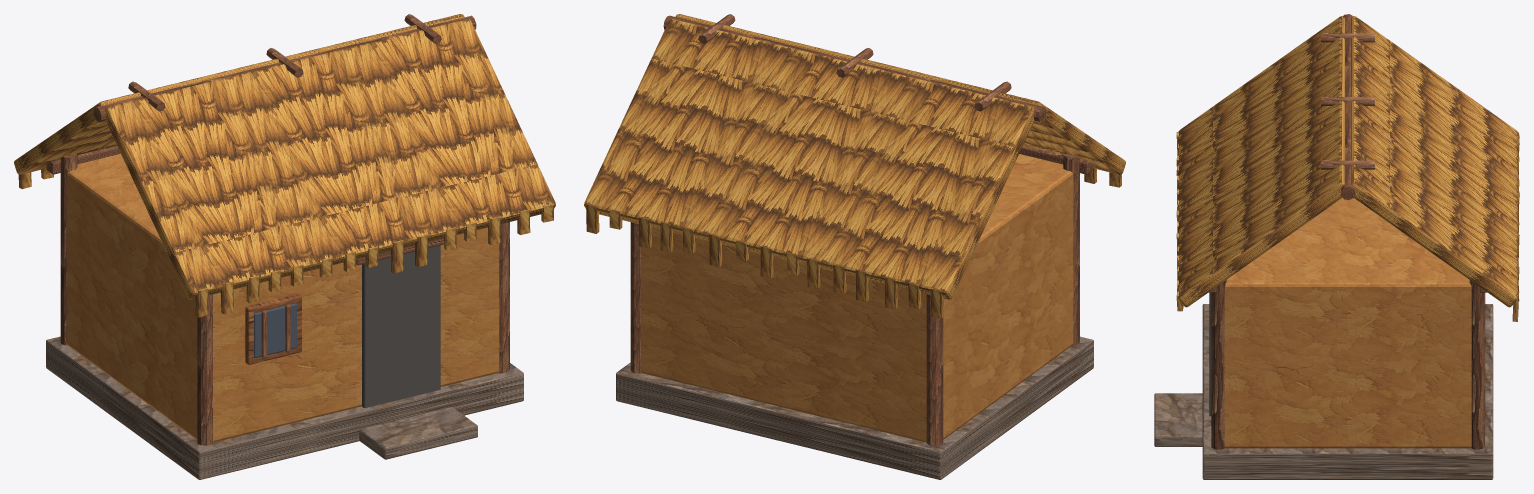
File: hut-staged.glb
3 renders of one model, left to right at view 1: azimuth 30°, elevation 25°; view 2: azimuth 150°, elevation 25°; view 3: azimuth 270°, elevation 25°, orthographic. The views are drawn at different scales.
Visible parts, largest first — view 1: roof, walls, footing, door, roof.001, step, post, post.002, winDark, post.001, winFrame, ridge (+1 smaller); view 2: roof.001, walls, footing, roof, post.001, post.003, post, ridge, beamF; view 3: walls, roof, roof.001, footing, step, post.003, post.002, ridge, ridgeTie.002, ridgeTie, ridgeTie.001.
Part boxes in pixels (<box>): roof: <box>105,19,555,299</box>; walls: <box>66,154,499,442</box>; footing: <box>46,336,523,479</box>; door: <box>361,245,440,407</box>; roof.001: <box>14,14,464,174</box>; step: <box>359,407,477,459</box>; post: <box>197,294,213,445</box>; post.002: <box>498,222,509,373</box>; winDark: <box>254,303,296,358</box>; post.001: <box>60,153,77,345</box>; winFrame: <box>245,294,301,364</box>; ridge: <box>93,15,476,122</box>; roof.001: <box>584,19,1034,299</box>; walls: <box>641,154,1073,442</box>; footing: <box>616,336,1093,479</box>; roof: <box>675,14,1125,174</box>; post.001: <box>926,294,943,445</box>; post.003: <box>630,222,641,373</box>; post: <box>1063,153,1079,345</box>; ridge: <box>663,15,1046,122</box>; beamF: <box>1019,145,1093,174</box>; walls: <box>1224,198,1471,448</box>; roof: <box>1178,16,1344,307</box>; roof.001: <box>1351,16,1517,307</box>; footing: <box>1202,304,1493,479</box>; step: <box>1154,393,1202,446</box>; post.003: <box>1469,280,1485,449</box>; post.002: <box>1211,279,1226,449</box>; ridge: <box>1341,14,1355,200</box>; ridgeTie.002: <box>1321,160,1374,169</box>; ridgeTie: <box>1321,33,1374,42</box>; ridgeTie.001: <box>1321,97,1374,105</box>.
Bounding box in the file's own units: 3.8 × 3.16 × 3.4.
10 materials, 8 textured.
